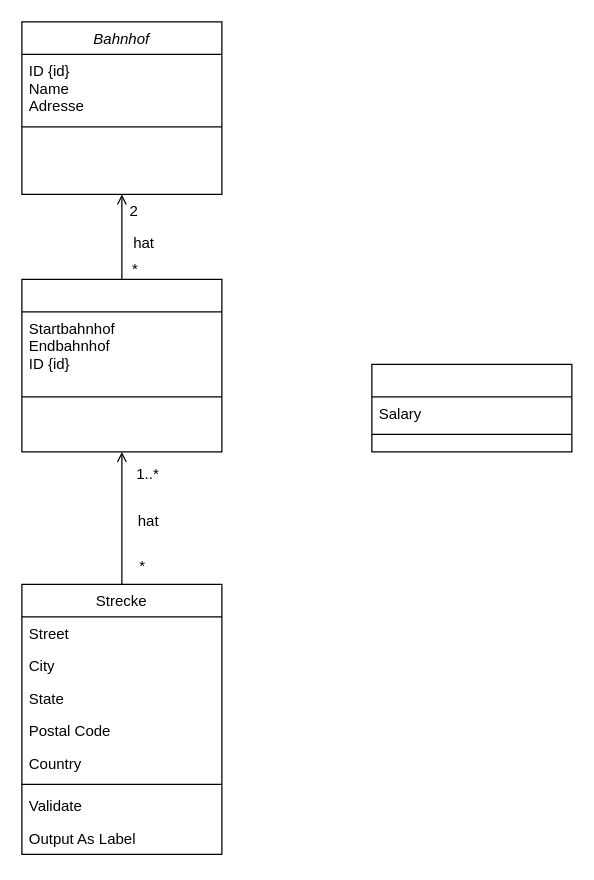
This 594x880 diagram has some shape labels left out. Here are the shapes that lost their labels. From the top down, the box of each, then its label:
(21, 278, 222, 452): Abschnitt
(371, 363, 572, 452): Warnung
